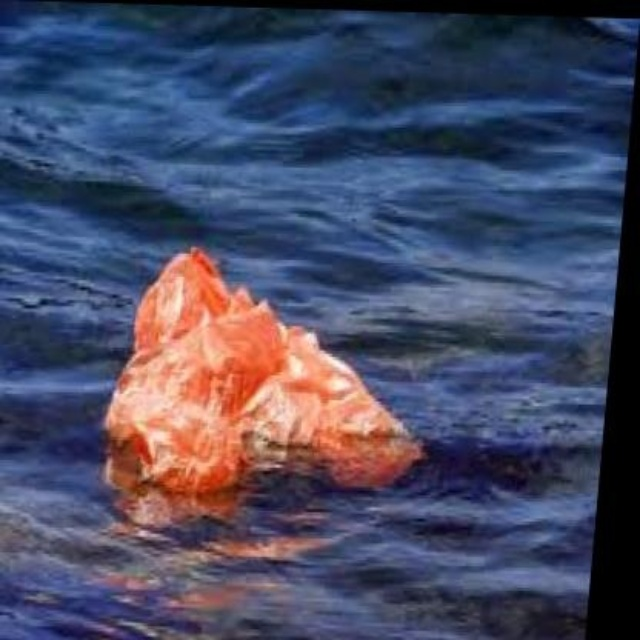trash: (106, 248, 420, 494)
